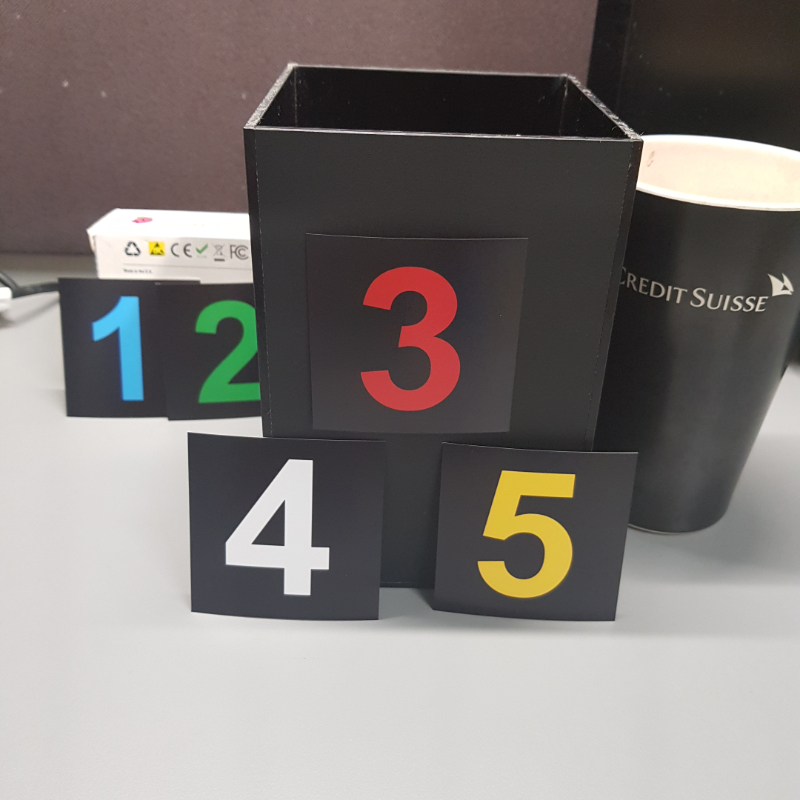Five-10: (453, 457, 612, 607)
Four-9: (196, 444, 371, 609)
Three-8: (319, 247, 501, 425)
